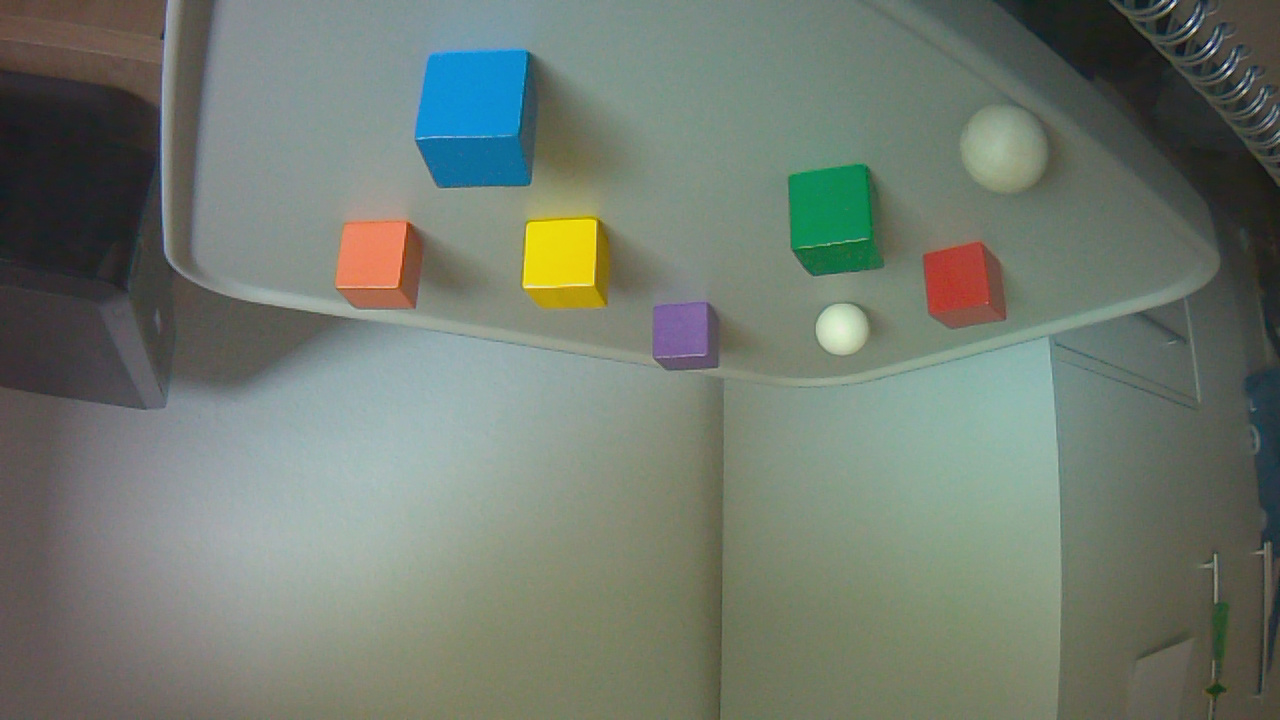ball: (962, 103, 1058, 202), (818, 305, 877, 363)
cube_blue: (417, 49, 548, 197)
cube_green: (791, 166, 891, 282)
cube_orange: (337, 221, 433, 318)
cube_purple: (654, 304, 728, 379)
cube_red: (925, 243, 1014, 338)
cube_yellow: (524, 221, 619, 318)
